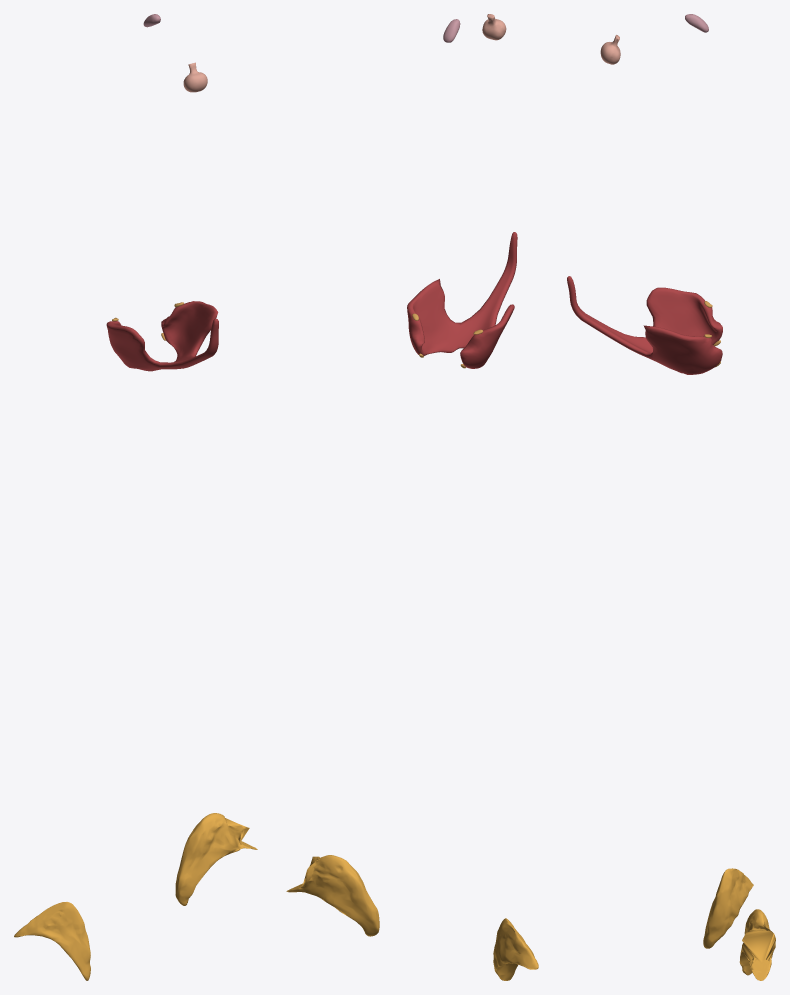
Rendered from male-endocrine.glb.
3 renders of one model, left to right at view 1: azimuth 30°, elevation 25°; view 2: azimuth 150°, elevation 25°; view 3: azimuth 270°, elevation 25°, orthographic. The views are drawn at different scales.
Visible parts, largest first — view 1: Thyroid_gland, Suprarenal_gland_L, Suprarenal_gland_R; view 2: Thyroid_gland, Suprarenal_gland_L, Suprarenal_gland_R; view 3: Thyroid_gland, Suprarenal_gland_R, Suprarenal_gland_L.
Boxes of the visible parts, x1,y1,x2,y2 form: Thyroid_gland: [106, 301, 218, 371]; Suprarenal_gland_L: [175, 813, 257, 905]; Suprarenal_gland_R: [14, 902, 90, 980]; Thyroid_gland: [407, 232, 517, 368]; Suprarenal_gland_L: [286, 855, 379, 936]; Suprarenal_gland_R: [493, 918, 538, 980]; Thyroid_gland: [567, 276, 722, 374]; Suprarenal_gland_R: [703, 868, 753, 948]; Suprarenal_gland_L: [739, 909, 775, 980].
Bounding box in the file's own units: 0.1281 × 0.4698 × 0.0923.
